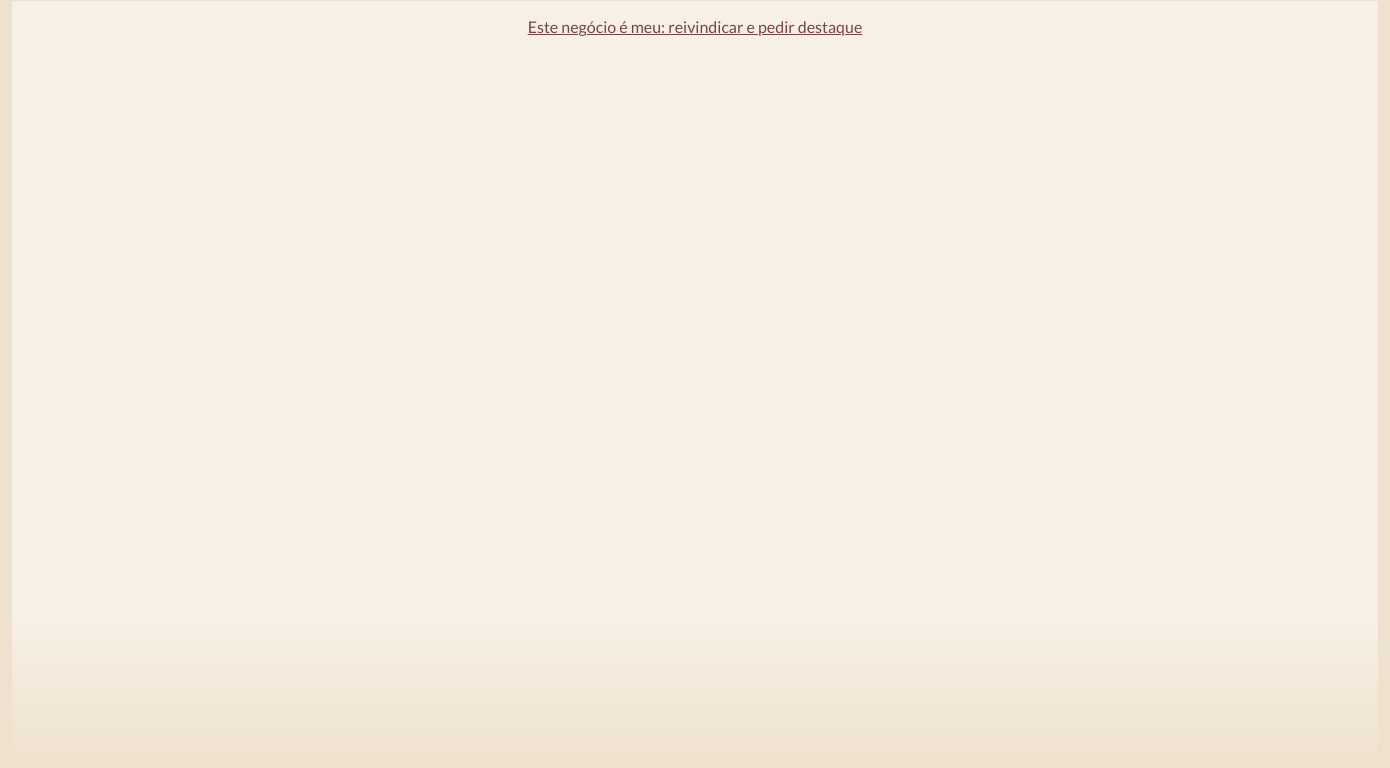
Reivindicação: o que a pessoa vê › antes de pedir, avisa que nome e WhatsApp serão compartilhados com a profissional
The width and height of the screenshot is (1390, 768).
Click the button "Este negócio é meu: reivindicar e pedir destaque" at (695, 27), box [12,5,1378,49]
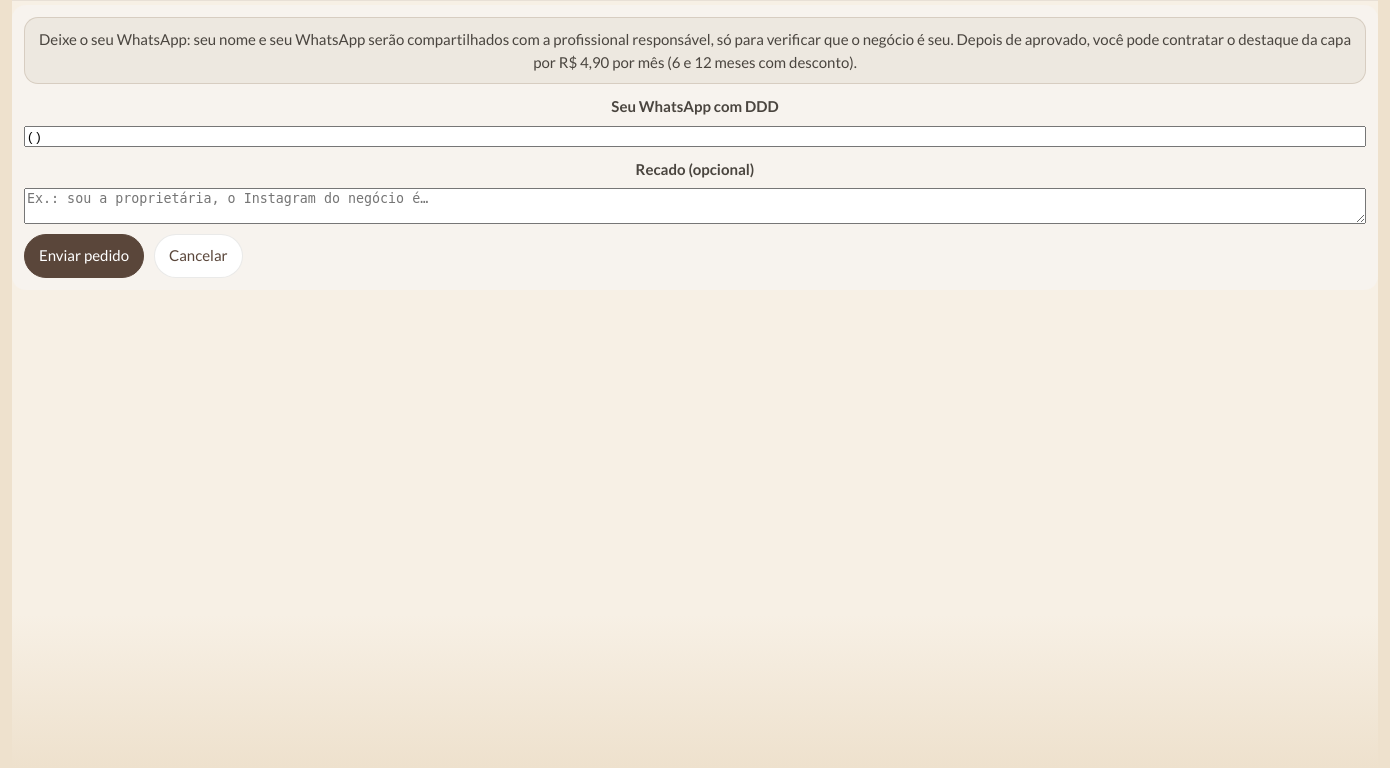
Expected: the text "nome e seu WhatsApp serão compartilhados com a profissional responsável" is shown, [39,30,1351,70]
